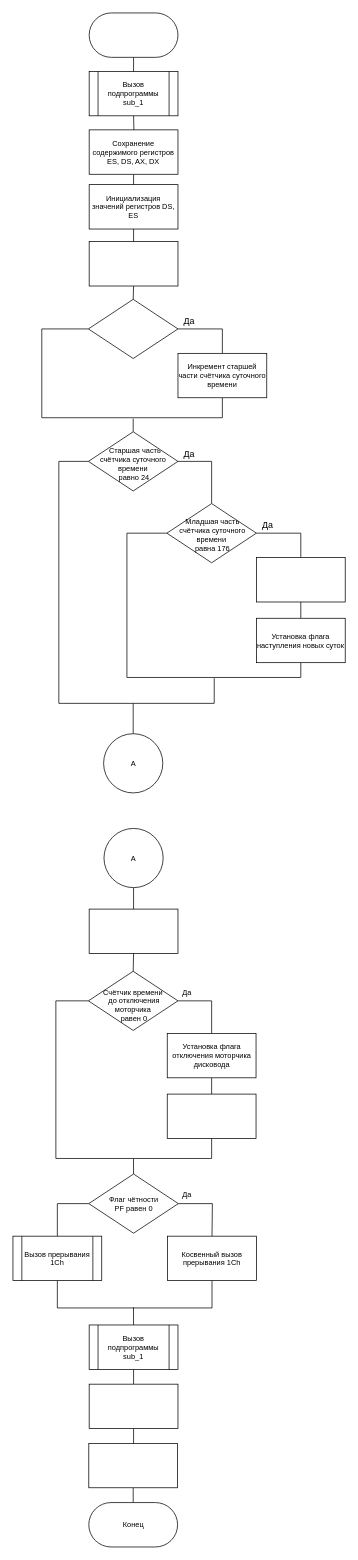
Some shapes in this 358 by 1560 pixel diagram are drawn without their labels. The box of each missing label's shape, as (x1, y1, x2, y2) in pixels:
Восстановление содержимого регистров ES, DS, AX, DX: (88, 1443, 178, 1488)
Декремент счётчика времени до отключения моторчика дисковода: (88, 908, 178, 953)
Инкремент младшей части счётчика суточного времени: (88, 241, 178, 286)
Младшая часть счётчика суточного времени равна 0: (88, 299, 178, 359)
Начало: (88, 12, 178, 57)
Обнуляем счётчик суточного времени: (256, 557, 345, 602)
Отправка команды отключения моторчика дисковода контроллеру дисковода: (166, 1093, 256, 1138)
Сброс контроллера прерываний: (88, 1383, 178, 1429)
